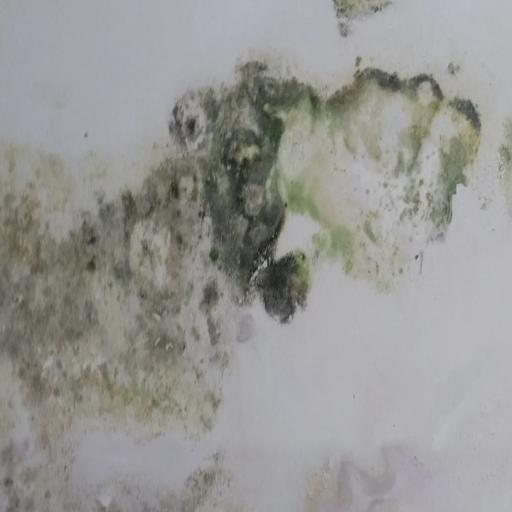algae: (0, 51, 469, 411)
